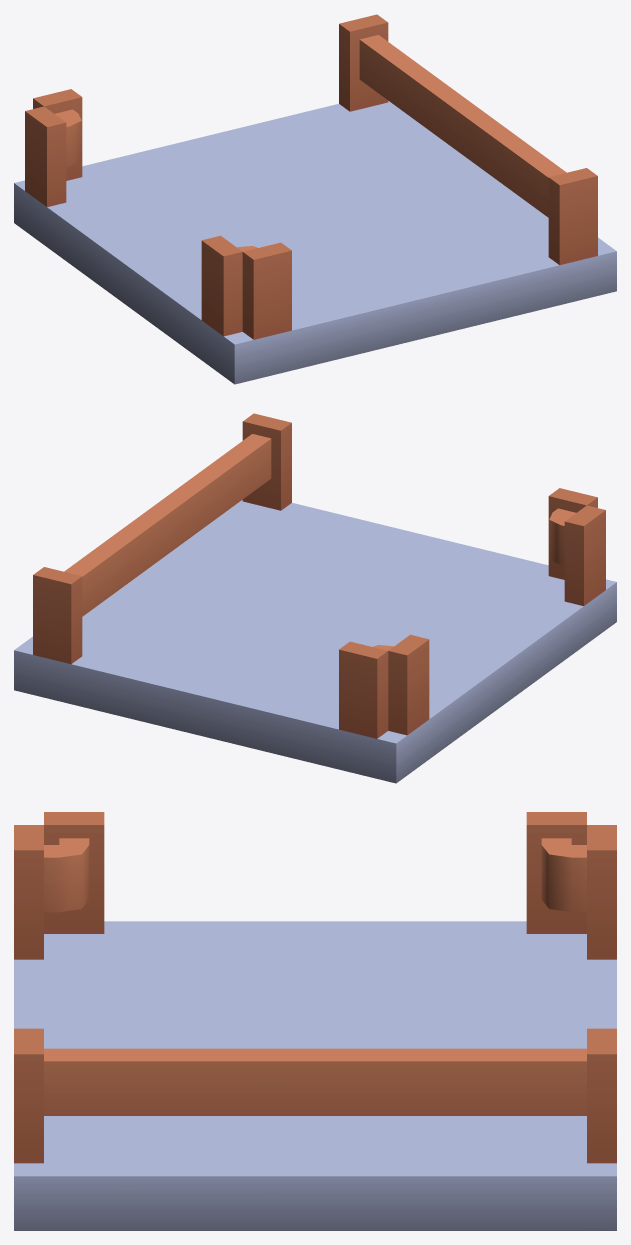
Rendered from path-split.glb.
3 views of the same model, one above another, from view 1: azimuth 30°, elevation 25°; view 2: azimuth 150°, elevation 25°; view 3: azimuth 270°, elevation 25° (orthographic). The views are drawn at different scales.
Visible parts, largest first — view 1: path-split; view 2: path-split; view 3: path-split.
Part boxes in pixels (x1,y1,x2,y2): path-split: (14,14,616,384); path-split: (14,413,616,783); path-split: (14,812,616,1230).
Size of the model in its own units: 1 by 0.3 by 1.
Materials: 1 (1 with a texture image).
